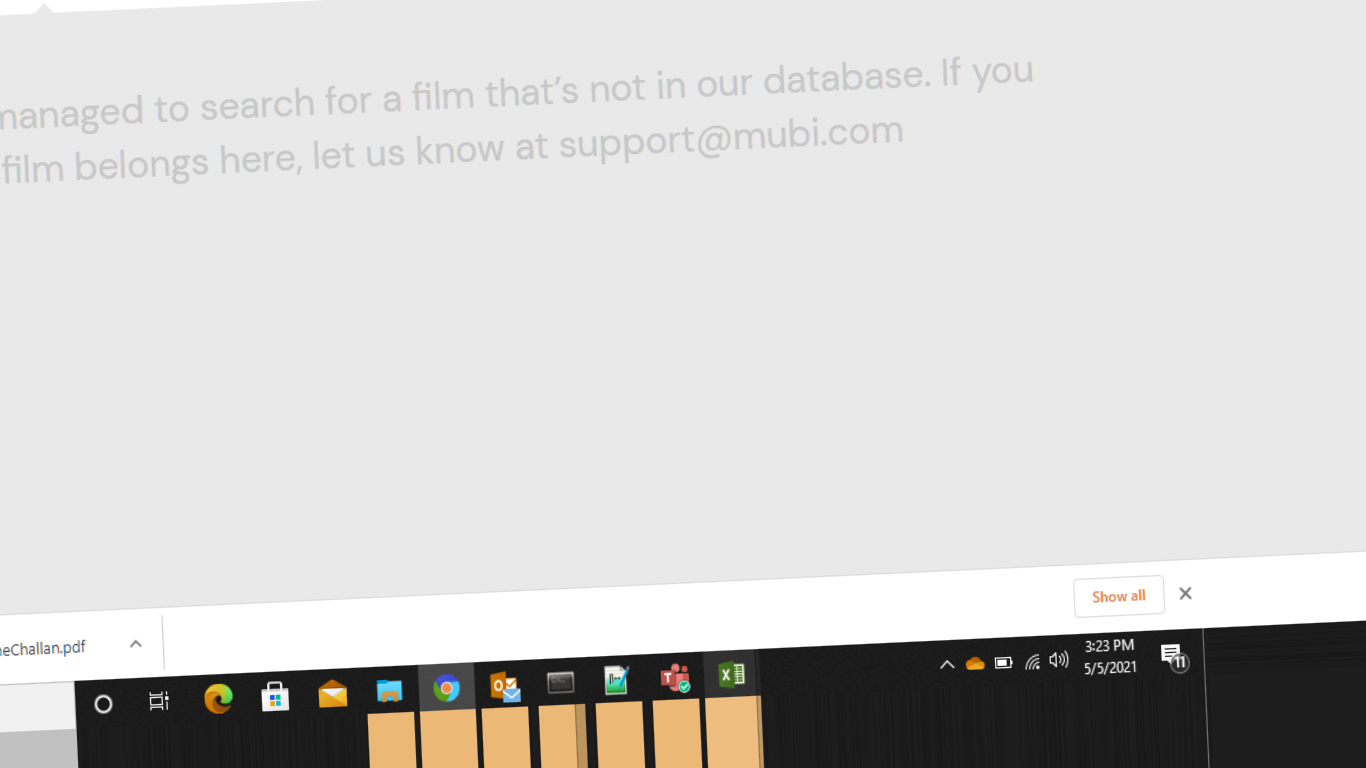noresultsfound: (1, 71, 1123, 179)
